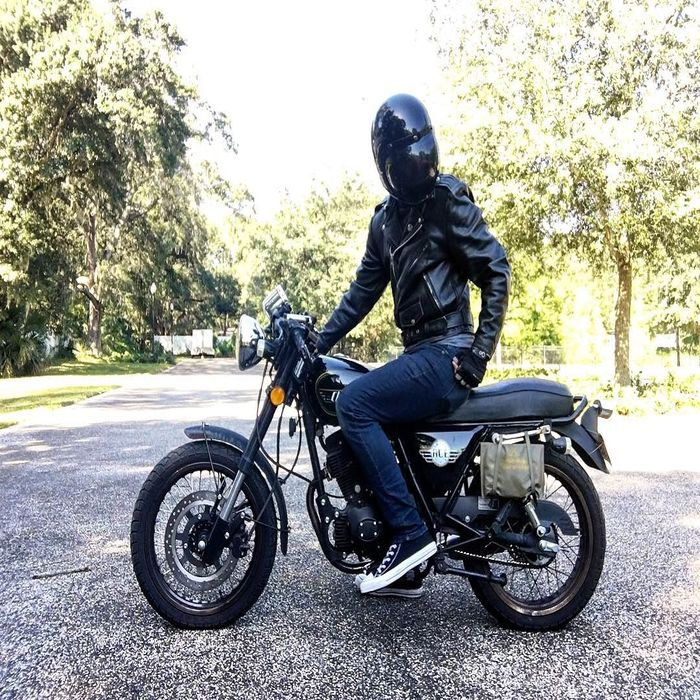h: (369, 90, 443, 213)
